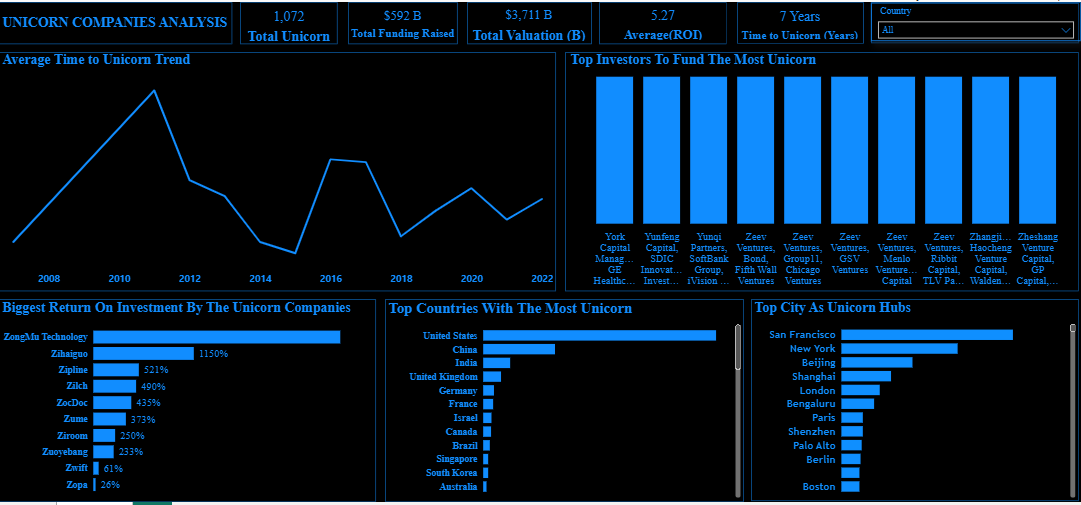

The page's visual inventory and layout, read from the dashboard file:
{"tool":"powerbi","page":{"name":"Page 1","canvas":[1664,769],"ordinal":0},"visuals":[{"type":"textbox","box":[0,13.9,371.1,34.8],"z":0},{"type":"shape","box":[0,0,358.8,65],"z":1000},{"type":"shape","box":[371.2,0,150,65],"z":2000},{"type":"shape","box":[1340.8,1.5,320.1,61.9],"z":3000},{"type":"shape","box":[719.1,0,191.8,65],"z":4000},{"type":"shape","box":[923.2,0,196.4,65],"z":5000},{"type":"card","fields":{"Values":["Unicorn_Companies.Total Unicorn"]},"box":[366.5,1.5,159.3,65],"z":6000},{"type":"shape","box":[536.6,0,168.6,65],"z":7000},{"type":"card","fields":{"Values":["Unicorn_Companies.Total Funding Raised"]},"box":[533.5,0,174.8,61.9],"z":8000},{"type":"card","fields":{"Values":["Unicorn_Companies.Total Valuation (B)"]},"box":[716,0,196.4,65],"z":9000},{"type":"shape","box":[1.5,77.3,909.3,383.5],"z":10000},{"type":"shape","box":[593.8,471.7,552.1,296.9],"z":11000},{"type":"shape","box":[1161.4,471.7,502.6,296.9],"z":12000},{"type":"shape","box":[923.2,77.3,740.8,383.5],"z":13000},{"type":"shape","box":[0,472.2,581.4,296.8],"z":14000},{"type":"barChart","title":"Biggest Return On Investment By The Unicorn Companies","fields":{"Y":["Unicorn_Companies.Return On Investment(ROI)"],"Category":["Unicorn_Companies.Company"]},"box":[0,472.2,581.4,295.3],"z":15000},{"type":"lineChart","title":"Average Time to Unicorn Trend","fields":{"Y":["Unicorn_Companies.Average Time to Unicorn by Year"],"Category":["Unicorn_Companies.Date Joined.Variation.Date Hierarchy.Year"]},"box":[0,77.3,912.4,383.5],"z":16000},{"type":"barChart","title":"Top Countries With The Most Unicorn","fields":{"Category":["Unicorn_Companies.Country"],"Y":["Unicorn_Companies.Total Unicorn"]},"box":[593.8,471.7,552.1,296.9],"z":17000},{"type":"barChart","title":"Top City As Unicorn Hubs","fields":{"Category":["Unicorn_Companies.City"],"Y":["Unicorn_Companies.Total Unicorn"]},"box":[1161.4,471.7,502.6,295.4],"z":18000},{"type":"columnChart","title":"Top Investors To Fund The Most Unicorn","fields":{"Category":["Unicorn_Companies.Select Investors"],"Y":["Unicorn_Companies.Total Unicorn"]},"box":[923.2,77.3,737.7,383.5],"z":19000},{"type":"card","fields":{"Values":["Unicorn_Companies.Average(ROI)"]},"box":[923.2,0,196.4,63.4],"z":20000},{"type":"card","fields":{"Values":["Unicorn_Companies.Time to Unicorn (Text)"]},"box":[1134.4,3.6,193.2,59],"z":21000},{"type":"shape","box":[1132.6,3.6,195,64.4],"z":22000},{"type":"slicer","fields":{"Values":["Unicorn_Companies.Country"]},"box":[1340.8,0,323.2,60.3],"z":23000}]}

Visuals, with their boxes in screenshot pixels (x1, y1, x2, y2), scaled from the page's 1664x769 canvas onto the 1081x505 screenshot:
textbox: Rect(0, 9, 241, 32)
shape: Rect(0, 0, 233, 43)
shape: Rect(241, 0, 339, 43)
shape: Rect(871, 1, 1079, 42)
shape: Rect(467, 0, 592, 43)
shape: Rect(600, 0, 727, 43)
card - Unicorn_Companies.Total Unicorn: Rect(238, 1, 342, 44)
shape: Rect(349, 0, 458, 43)
card - Unicorn_Companies.Total Funding Raised: Rect(347, 0, 460, 41)
card - Unicorn_Companies.Total Valuation (B): Rect(465, 0, 593, 43)
shape: Rect(1, 51, 592, 303)
shape: Rect(386, 310, 744, 504)
shape: Rect(754, 310, 1080, 504)
shape: Rect(600, 51, 1080, 303)
shape: Rect(0, 310, 378, 504)
"Biggest Return On Investment By The Unicorn Companies" barChart: Rect(0, 310, 378, 504)
"Average Time to Unicorn Trend" lineChart: Rect(0, 51, 593, 303)
"Top Countries With The Most Unicorn" barChart: Rect(386, 310, 744, 504)
"Top City As Unicorn Hubs" barChart: Rect(754, 310, 1080, 504)
"Top Investors To Fund The Most Unicorn" columnChart: Rect(600, 51, 1079, 303)
card - Unicorn_Companies.Average(ROI): Rect(600, 0, 727, 42)
card - Unicorn_Companies.Time to Unicorn (Text): Rect(737, 2, 862, 41)
shape: Rect(736, 2, 862, 45)
slicer - Unicorn_Companies.Country: Rect(871, 0, 1080, 40)
